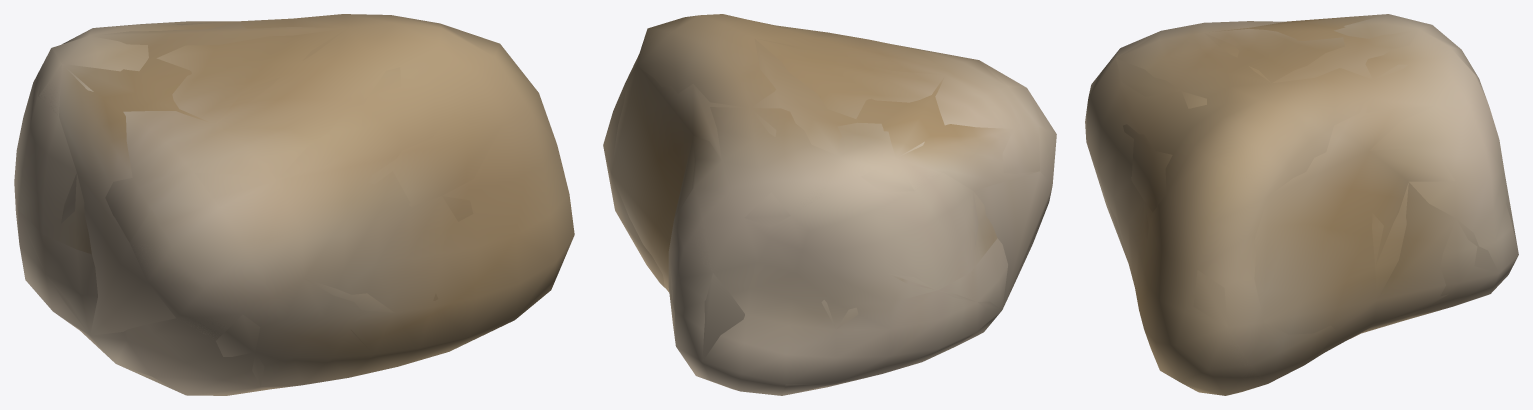
File: L carpale secundum.fbx
The picture shows the model from 3 angles, left to right: view 1: azimuth 30°, elevation 25°; view 2: azimuth 150°, elevation 25°; view 3: azimuth 270°, elevation 25°; orthographic projection. The views are drawn at different scales.
Visible parts, largest first — view 1: L carpale secundum, L carpale secundum low; view 2: L carpale secundum, L carpale secundum low; view 3: L carpale secundum, L carpale secundum low.
Part boxes in pixels (bbox=[...]): L carpale secundum: bbox=[14, 14, 574, 395]; L carpale secundum low: bbox=[16, 21, 502, 395]; L carpale secundum: bbox=[603, 14, 1056, 395]; L carpale secundum low: bbox=[611, 21, 1056, 395]; L carpale secundum: bbox=[1085, 14, 1518, 395]; L carpale secundum low: bbox=[1089, 14, 1518, 394].
Size of the model in its own units: 2.93 by 1.87 by 2.67.
